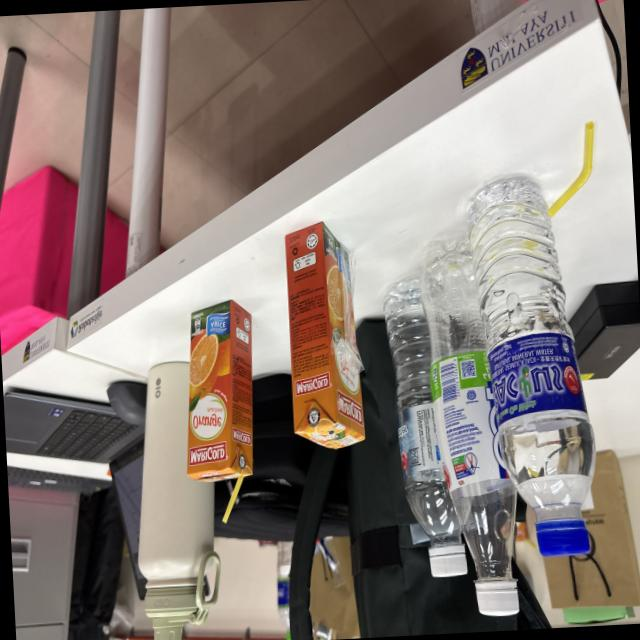drink_carton: (278, 216, 374, 458), (174, 294, 270, 526)
plastic_bottle: (460, 160, 603, 569), (408, 224, 532, 624), (378, 259, 486, 589)
